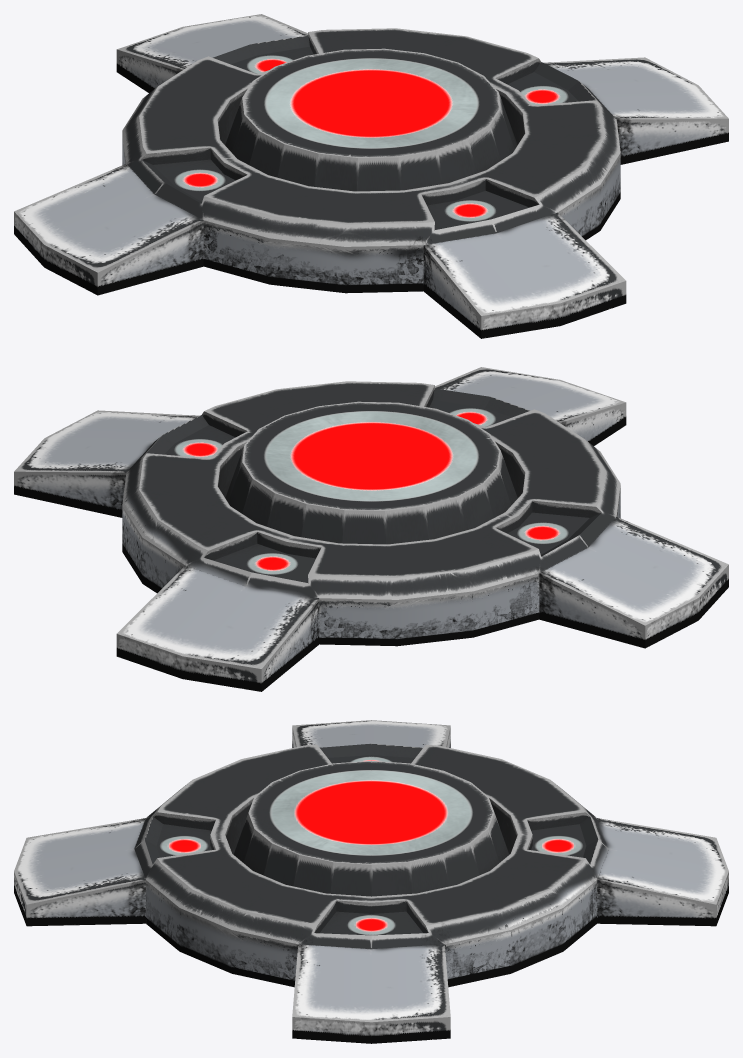
File: landmine.glb
3 views of the same model, one above another, from view 1: azimuth 30°, elevation 25°; view 2: azimuth 150°, elevation 25°; view 3: azimuth 270°, elevation 25° (orthographic). The views are drawn at different scales.
Parts seen in each view (by area): view 1: polySurface7; view 2: polySurface7; view 3: polySurface7.
Boxes of the visible parts, bbox=[...] form: polySurface7: bbox=[14, 14, 728, 338]; polySurface7: bbox=[14, 367, 728, 691]; polySurface7: bbox=[14, 720, 728, 1043].
Bounding box in the file's own units: 996 × 123 × 996.
1 material, 1 textured.
